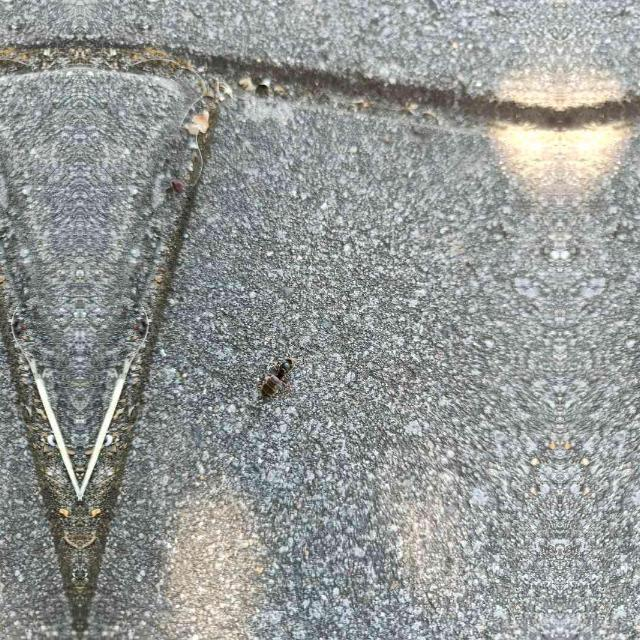Lasius: (256, 349, 290, 398)
